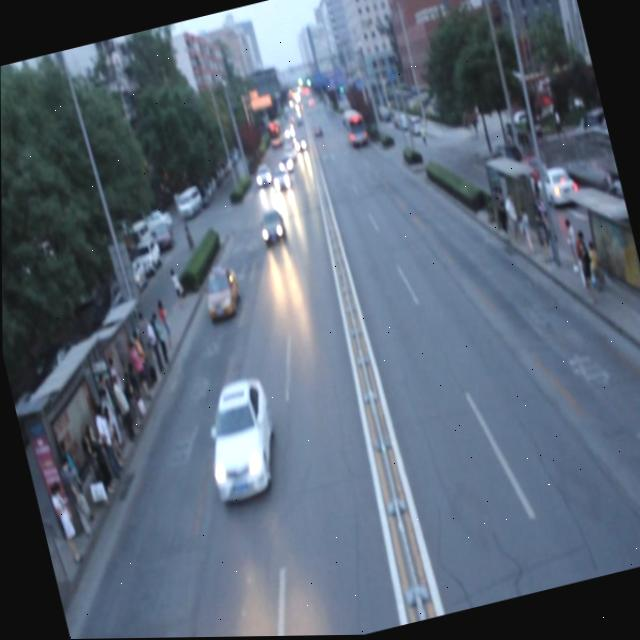car: (191, 375, 288, 510), (198, 263, 242, 324), (255, 207, 287, 248), (269, 167, 292, 194), (252, 165, 272, 190), (276, 155, 293, 177)
van: (339, 111, 369, 151)
